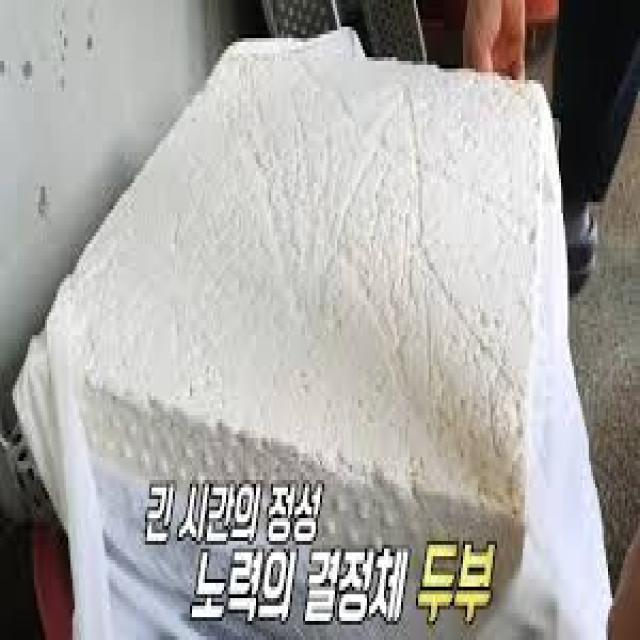tofu: (69, 16, 552, 520)
